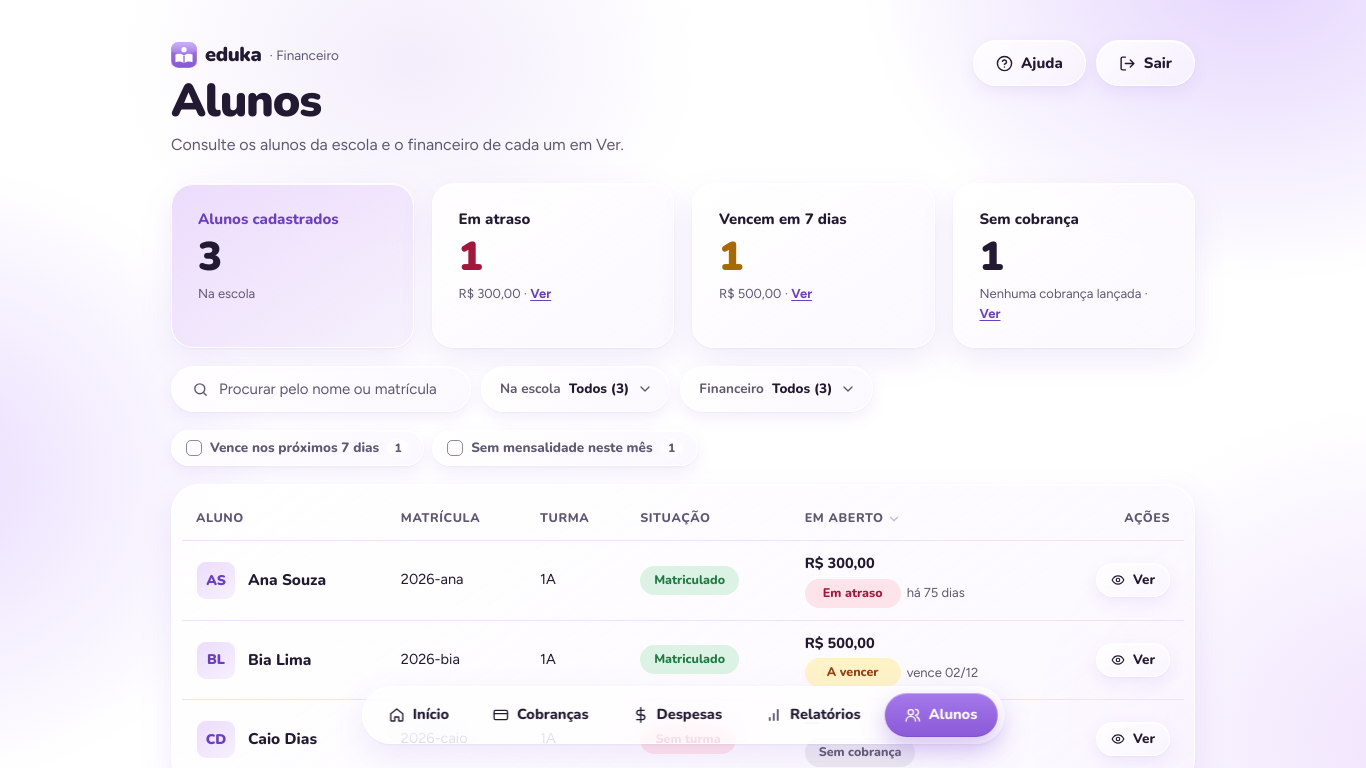
Test: Alunos: o financeiro de cada aluno › o card Em atraso leva à lista filtrada
The image size is (1366, 768).
Expected: the text "Bia Lima" is shown, x1=248 y1=650 x2=311 y2=670
Click the button with aria-label "Ver alunos em atraso" at [541, 294], box x1=530 y1=284 x2=551 y2=304
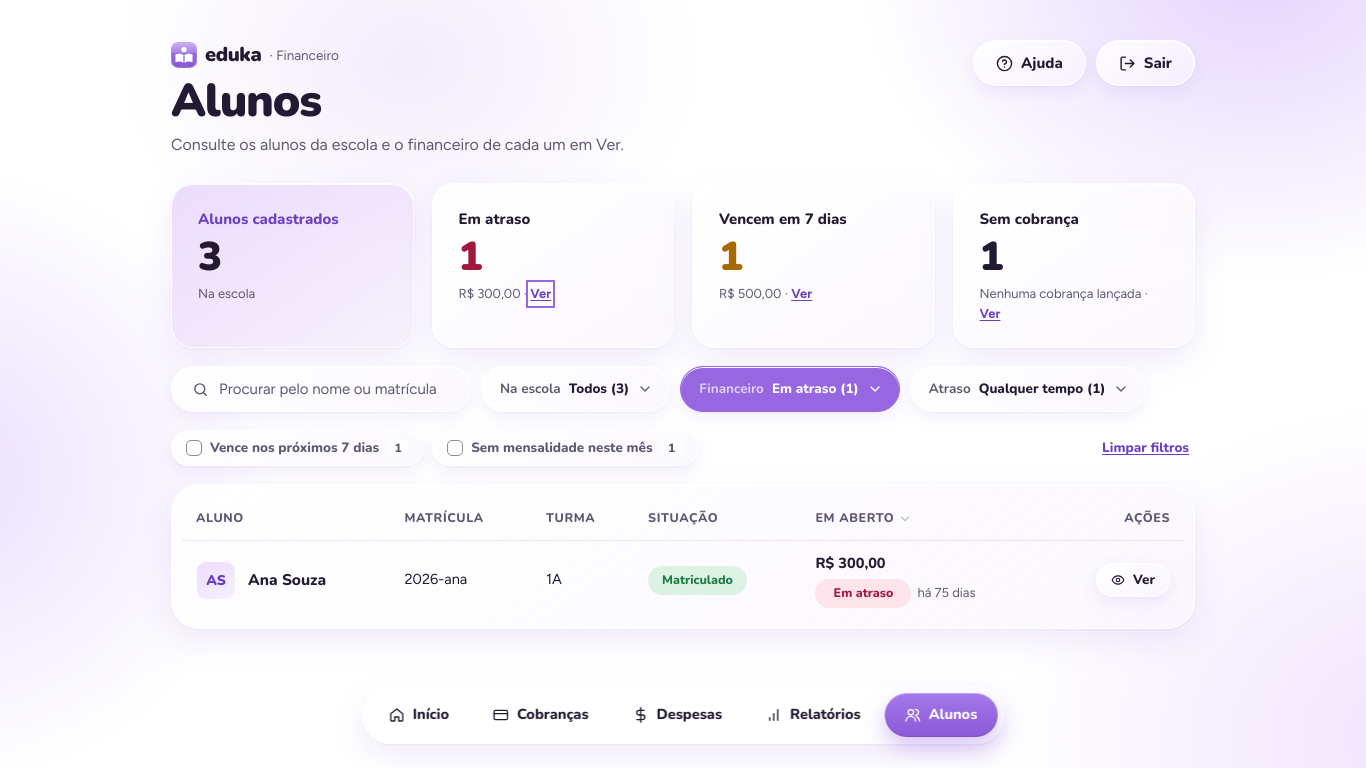
Expected: the text "Ana Souza" is shown, x1=248 y1=570 x2=326 y2=590
Expected: the text "Bia Lima" is gone
